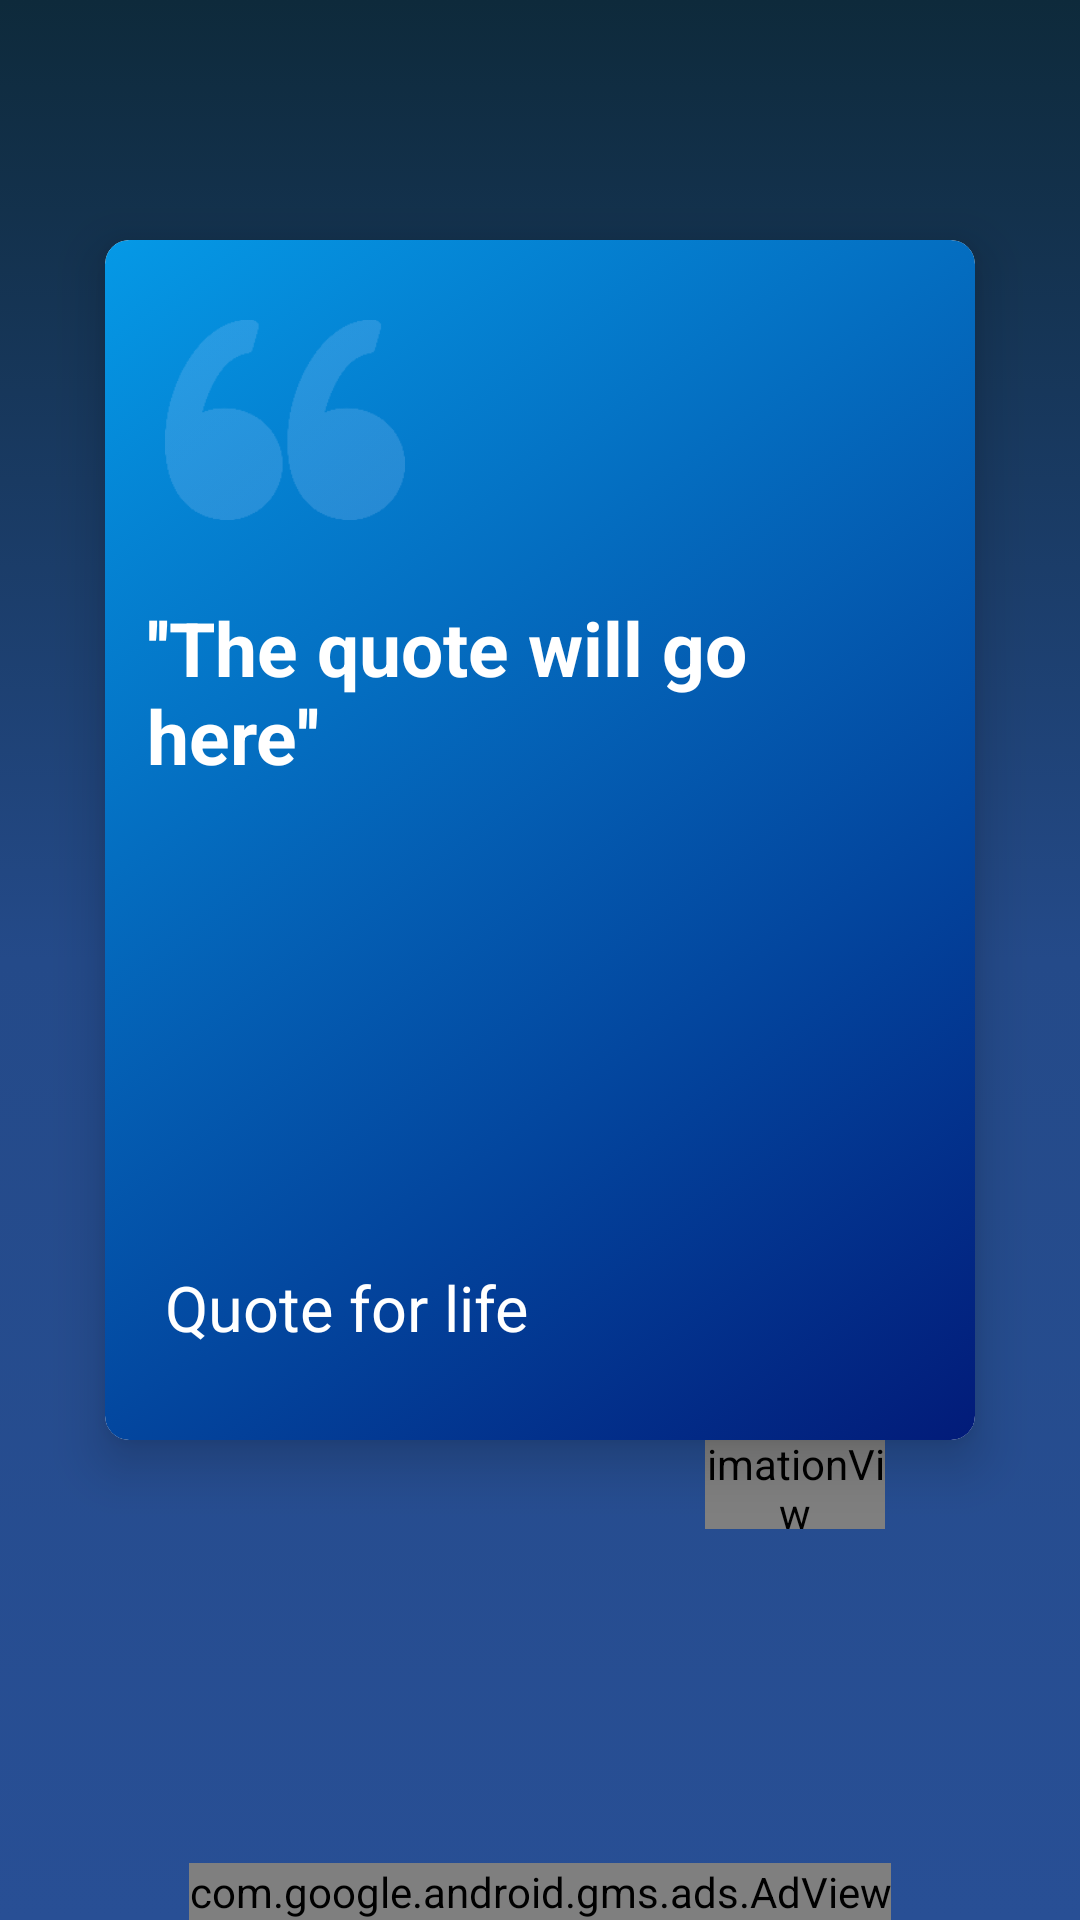

Named icons in this screenshot (1080 x 1920) and their centers, (x=x, y=y):
bigquote: (x=285, y=420)
